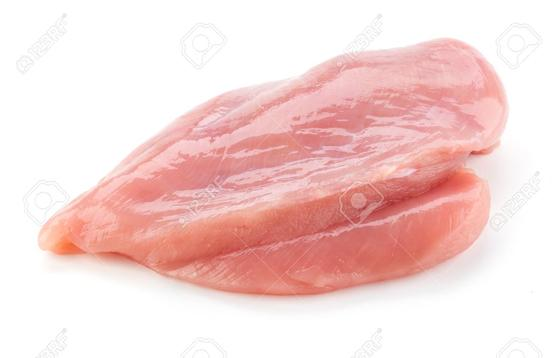chicken_fillet: (48, 39, 503, 293)
